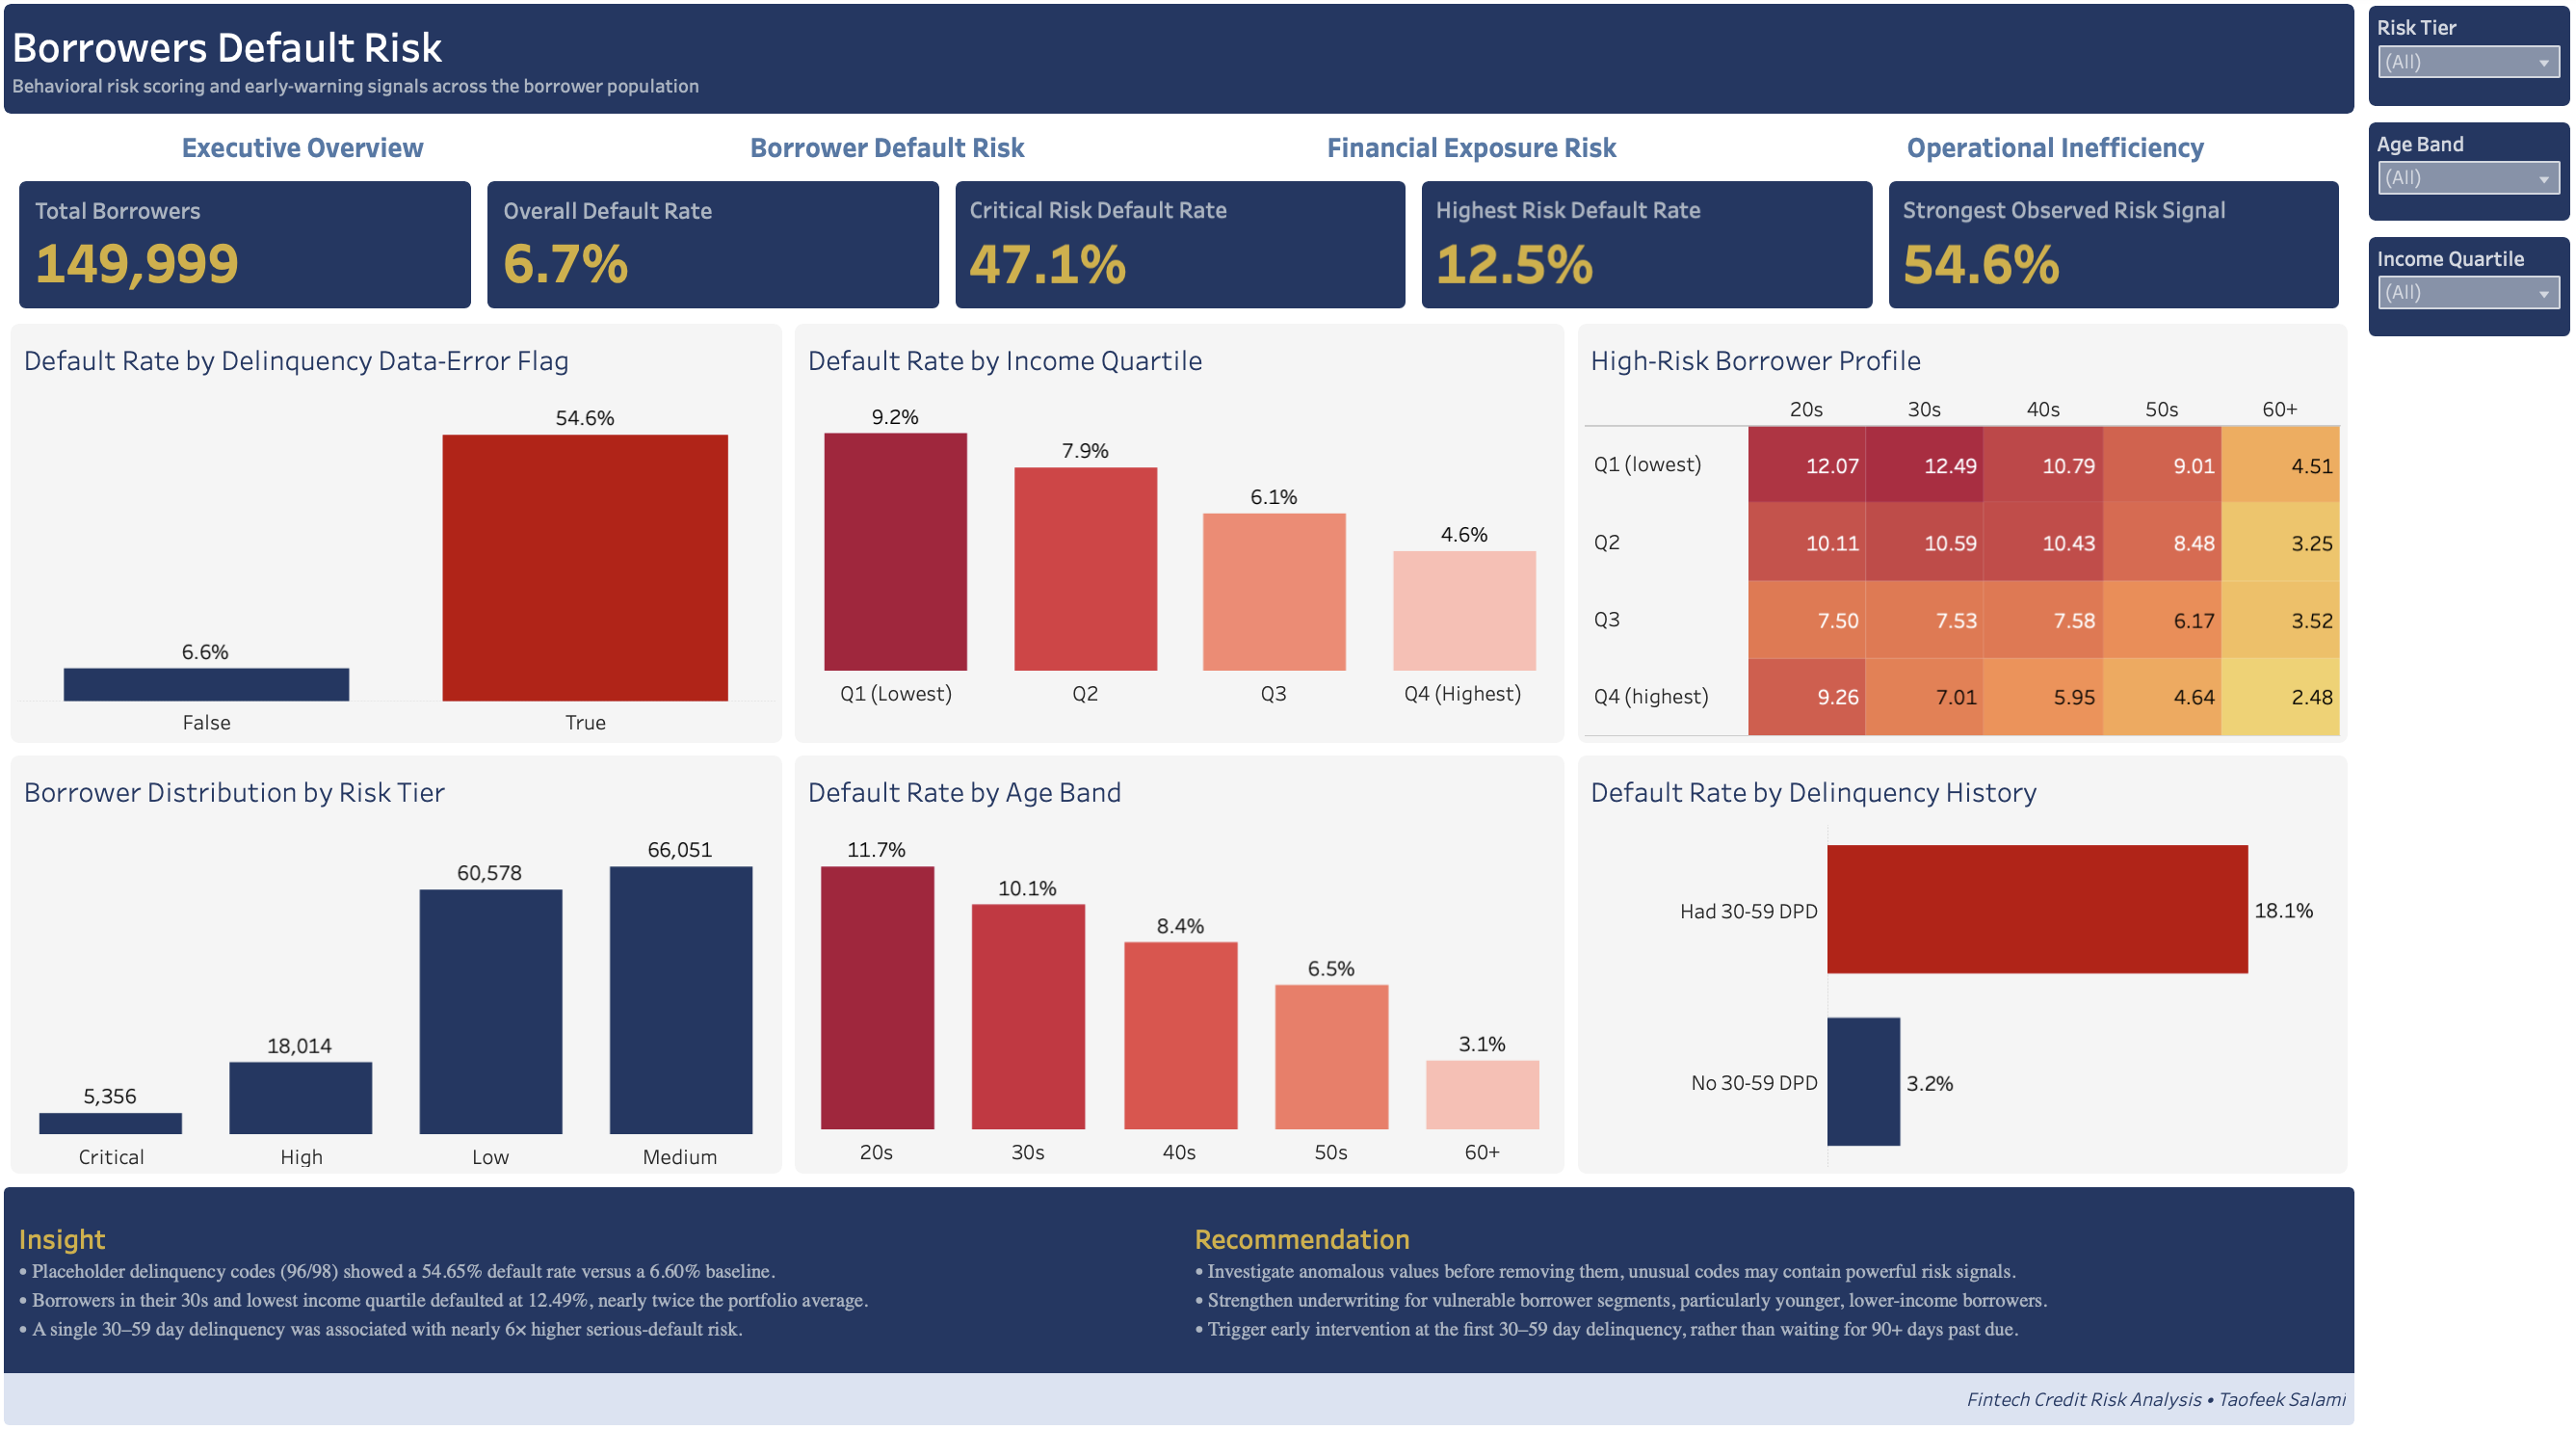

This screenshot's page, from the dashboard's own definition file:
{"tool":"tableau","page":{"name":"DB02 - Borrower Default Risk","canvas":[1600,900],"ordinal":1},"visuals":[{"type":"filter","title":"01 - KPI - Population","param":"[federated.0l6wklt0usoimd1as64wt0mplcod].[none:risk_tier:nk]","box":[1455,12,133,71]},{"type":"text","box":[16,16,1435,67]},{"type":"filter","title":"23 - Chart - High-Risk Borrower Profile","param":"[federated.1h25h3e1pzxy4819fw1kw17xls45].[none:age_band:nk]","box":[1455,83,133,70]},{"type":"dashboard-object","box":[20,87,357,32]},{"type":"dashboard-object","box":[377,87,357,32]},{"type":"dashboard-object","box":[734,87,357,32]},{"type":"dashboard-object","box":[1091,87,356,32]},{"type":"worksheet","title":"01 - KPI - Population","mark":"Automatic","box":[20,119,286,88]},{"type":"worksheet","title":"02 - KPI - Overall Default Rate","mark":"Automatic","box":[306,119,286,88]},{"type":"worksheet","title":"06 - KPI - Critical Risk Default Rate","mark":"Automatic","box":[592,119,285,88]},{"type":"worksheet","title":"07 - KPI - Highest Risk Segment Default Rate","mark":"Automatic","box":[877,119,285,88]},{"type":"worksheet","title":"08 - KPI - Strongest Early-Warning Signal","mark":"Automatic","box":[1162,119,285,88]},{"type":"filter","title":"23 - Chart - High-Risk Borrower Profile","param":"[federated.1h25h3e1pzxy4819fw1kw17xls45].[none:income_quartile:nk]","box":[1455,153,133,71]},{"type":"worksheet","title":"26 - Chart - Delinquency Data-Error Flag Comparison","mark":"Automatic","rows":["SeriousDlqin2yrs"],"cols":["delinquency_data_error_flag"],"box":[16,207,479,264]},{"type":"worksheet","title":"22 - Chart - Delinquency by Income Quartile","mark":"Automatic","rows":["delinquency_rate_pct (sql_p1_delinquency_by_income.csv)"],"cols":["income_quartile"],"box":[495,207,478,264]},{"type":"worksheet","title":"23 - Chart - High-Risk Borrower Profile","mark":"Square","rows":["income_quartile"],"cols":["age_band"],"box":[973,207,478,264]},{"type":"worksheet","title":"25 - Chart - Risk Tier Distribution","mark":"Automatic","rows":["vtsum"],"cols":["risk_tier"],"box":[16,471,479,263]},{"type":"worksheet","title":"21 - Chart - Delinquency by Age Band","mark":"Automatic","rows":["delinquency_rate_pct"],"cols":["age_band"],"box":[495,471,478,263]},{"type":"worksheet","title":"24 - Chart - Delinquency Progression","mark":"Bar","rows":["group (Union)"],"cols":["progression_rate_pct (Union)"],"box":[973,471,478,263]},{"type":"text","box":[16,738,718,114]},{"type":"text","box":[734,738,717,114]},{"type":"text","box":[16,852,1435,32]}]}

Visuals, with their boxes in screenshot pixels (x1, y1, x2, y2), scaled from the page's 1600x900 canvas onto the 2576x1430 screenshot:
"01 - KPI - Population" filter: box=[2343, 19, 2557, 132]
text: box=[26, 25, 2336, 132]
"23 - Chart - High-Risk Borrower Profile" filter: box=[2343, 132, 2557, 243]
dashboard-object: box=[32, 138, 607, 189]
dashboard-object: box=[607, 138, 1182, 189]
dashboard-object: box=[1182, 138, 1756, 189]
dashboard-object: box=[1756, 138, 2329, 189]
"01 - KPI - Population" worksheet: box=[32, 189, 492, 329]
"02 - KPI - Overall Default Rate" worksheet: box=[492, 189, 953, 329]
"06 - KPI - Critical Risk Default Rate" worksheet: box=[953, 189, 1412, 329]
"07 - KPI - Highest Risk Segment Default Rate" worksheet: box=[1412, 189, 1871, 329]
"08 - KPI - Strongest Early-Warning Signal" worksheet: box=[1871, 189, 2329, 329]
"23 - Chart - High-Risk Borrower Profile" filter: box=[2343, 243, 2557, 356]
"26 - Chart - Delinquency Data-Error Flag Comparison" worksheet: box=[26, 329, 797, 749]
"22 - Chart - Delinquency by Income Quartile" worksheet: box=[797, 329, 1566, 749]
"23 - Chart - High-Risk Borrower Profile" worksheet (Square marks): box=[1566, 329, 2336, 749]
"25 - Chart - Risk Tier Distribution" worksheet: box=[26, 749, 797, 1166]
"21 - Chart - Delinquency by Age Band" worksheet: box=[797, 749, 1566, 1166]
"24 - Chart - Delinquency Progression" worksheet (Bar marks): box=[1566, 749, 2336, 1166]
text: box=[26, 1173, 1182, 1354]
text: box=[1182, 1173, 2336, 1354]
text: box=[26, 1354, 2336, 1405]
